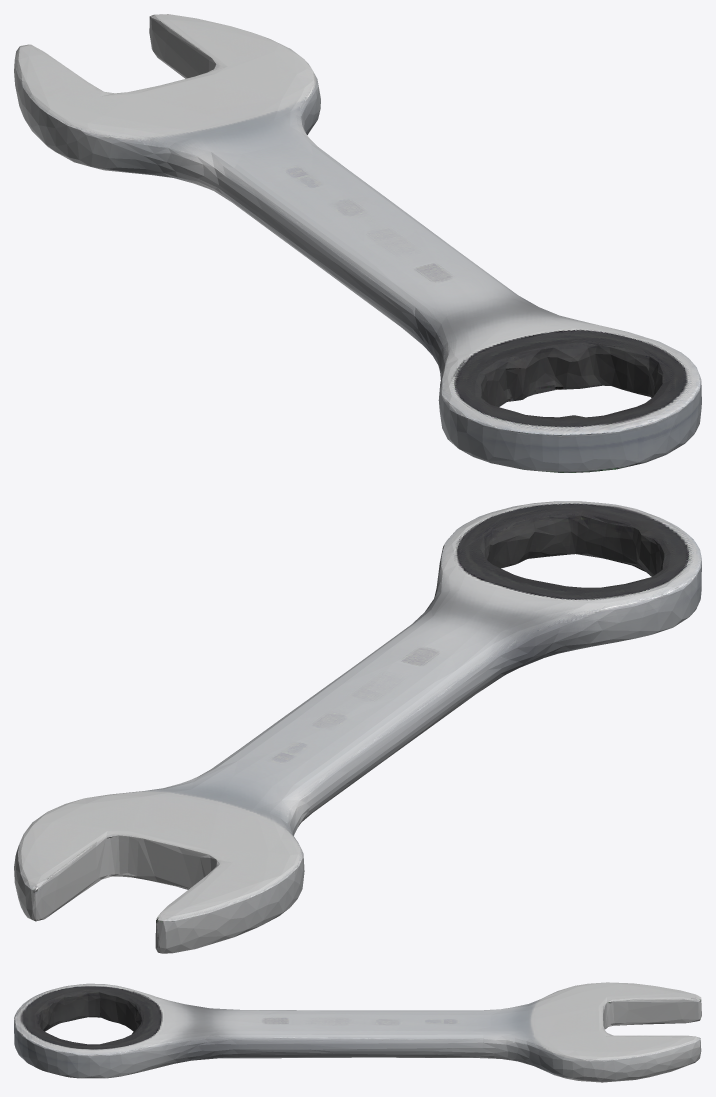
File: wrench.glb
3 views of the same model, one above another, from view 1: azimuth 30°, elevation 25°; view 2: azimuth 150°, elevation 25°; view 3: azimuth 270°, elevation 25° (orthographic). The views are drawn at different scales.
Parts seen in each view (by area): view 1: world; view 2: world; view 3: world.
Boxes of the visible parts, box(x1,y1,x2,y2) form: world: box(14, 14, 701, 472); world: box(14, 501, 701, 953); world: box(14, 982, 701, 1082).
Bounding box in the file's own units: 0.2697 × 0.0446 × 1.
1 material, 1 textured.
